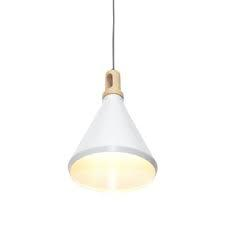Lamp: (65, 1, 160, 191)
